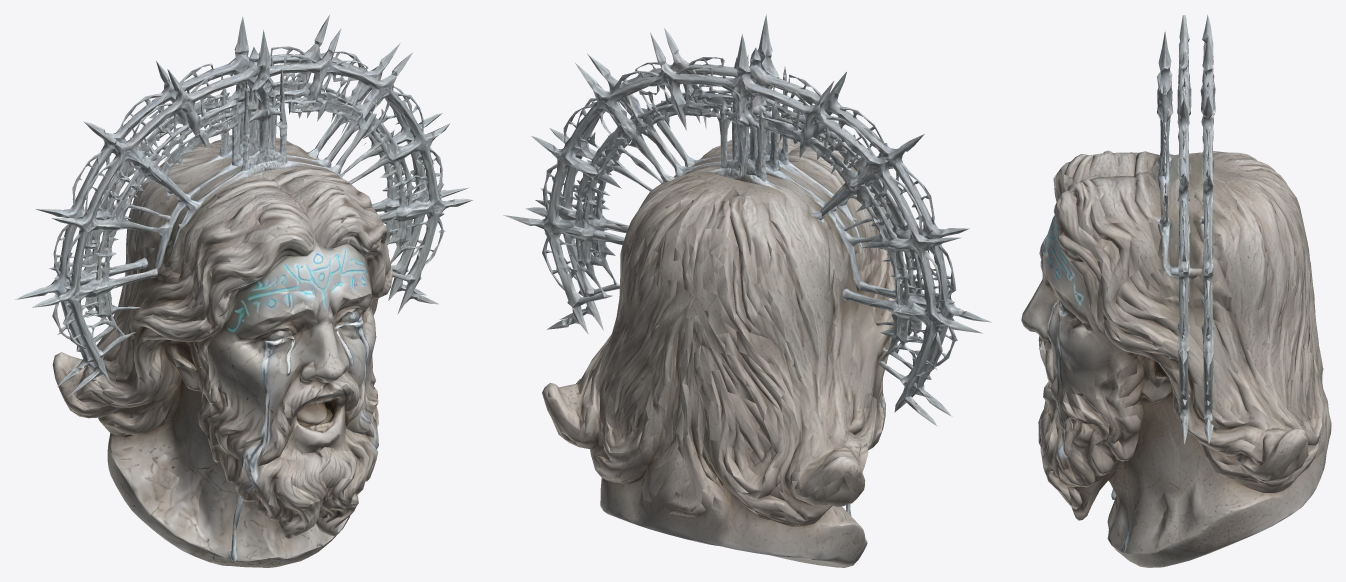
File: choir.glb
3 renders of one model, left to right at view 1: azimuth 30°, elevation 25°; view 2: azimuth 150°, elevation 25°; view 3: azimuth 270°, elevation 25°, orthographic. The views are drawn at different scales.
Parts seen in each view (by area): view 1: Mesh; view 2: Mesh; view 3: Mesh.
Boxes of the visible parts, <box> form: Mesh: <box>15,15,472,567</box>; Mesh: <box>503,14,991,567</box>; Mesh: <box>1021,14,1331,567</box>.
Size of the model in its own units: 1.65 by 1.81 by 0.9871.
1 material, 1 textured.
